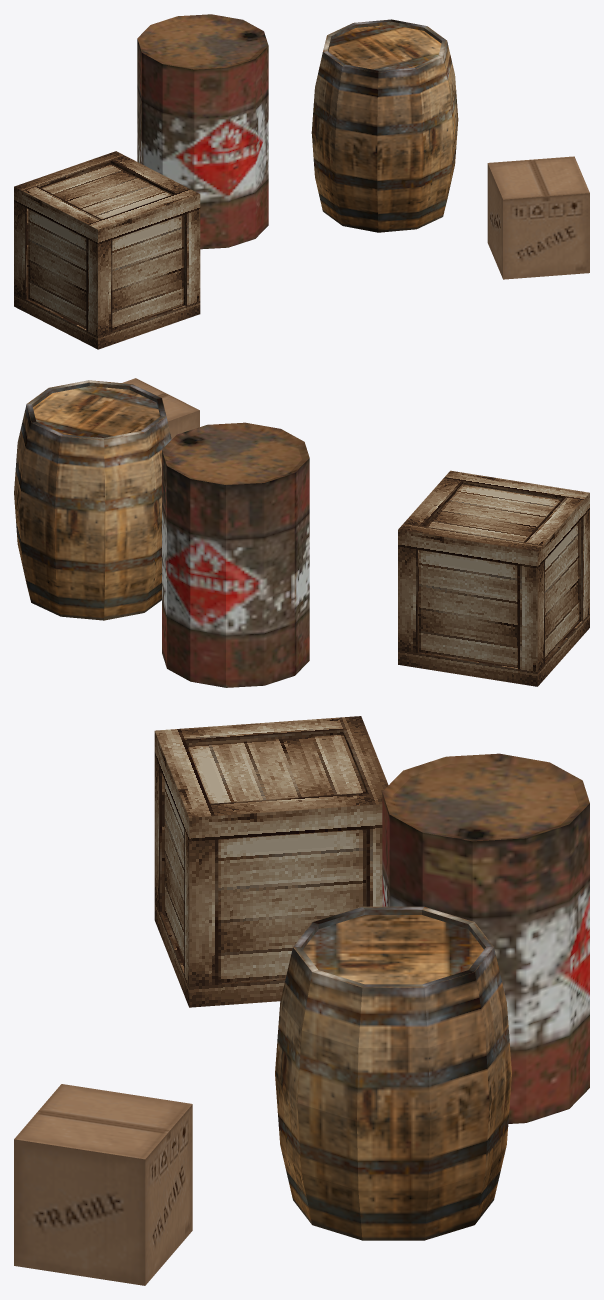
The model's file is Barrels&Boxes.fbx.
3 renders of one model, top to bottom at view 1: azimuth 30°, elevation 25°; view 2: azimuth 150°, elevation 25°; view 3: azimuth 270°, elevation 25°, orthographic. The views are drawn at different scales.
Parts seen in each view (by area): view 1: Crate, Barrel, FuelBarrel, CardboardBox; view 2: FuelBarrel, Crate, Barrel, CardboardBox; view 3: Barrel, Crate, FuelBarrel, CardboardBox.
Boxes of the visible parts, x1,y1,x2,y2 form: Crate: (14,151,200,349); Barrel: (311,19,458,232); FuelBarrel: (137,14,268,249); CardboardBox: (487,156,589,279); FuelBarrel: (162,422,309,687); Crate: (398,470,589,686); Barrel: (14,380,171,620); CardboardBox: (122,378,199,439); Barrel: (275,906,511,1240); Crate: (154,716,388,1007); FuelBarrel: (382,753,589,1123); CardboardBox: (14,1084,192,1285).
Bounding box in the file's own units: 322 × 113 × 206.
Materials: 4 (4 with a texture image).
